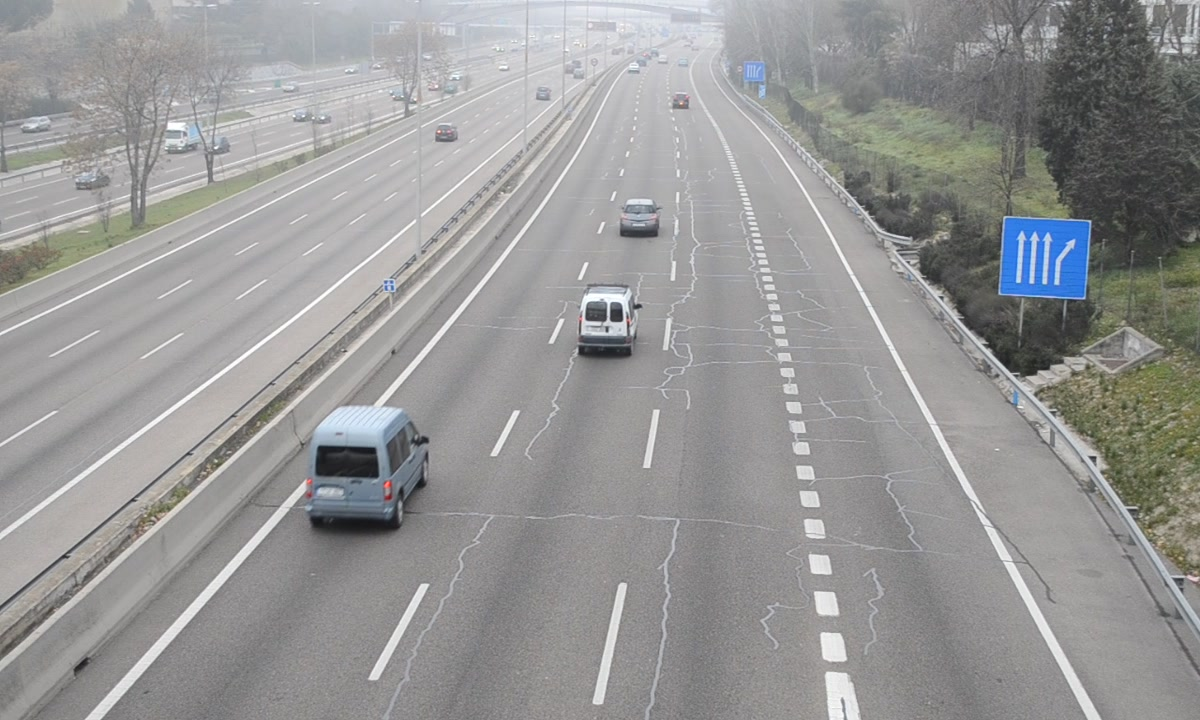car: (619, 198, 662, 236)
van: (309, 408, 428, 523), (577, 287, 638, 355)
